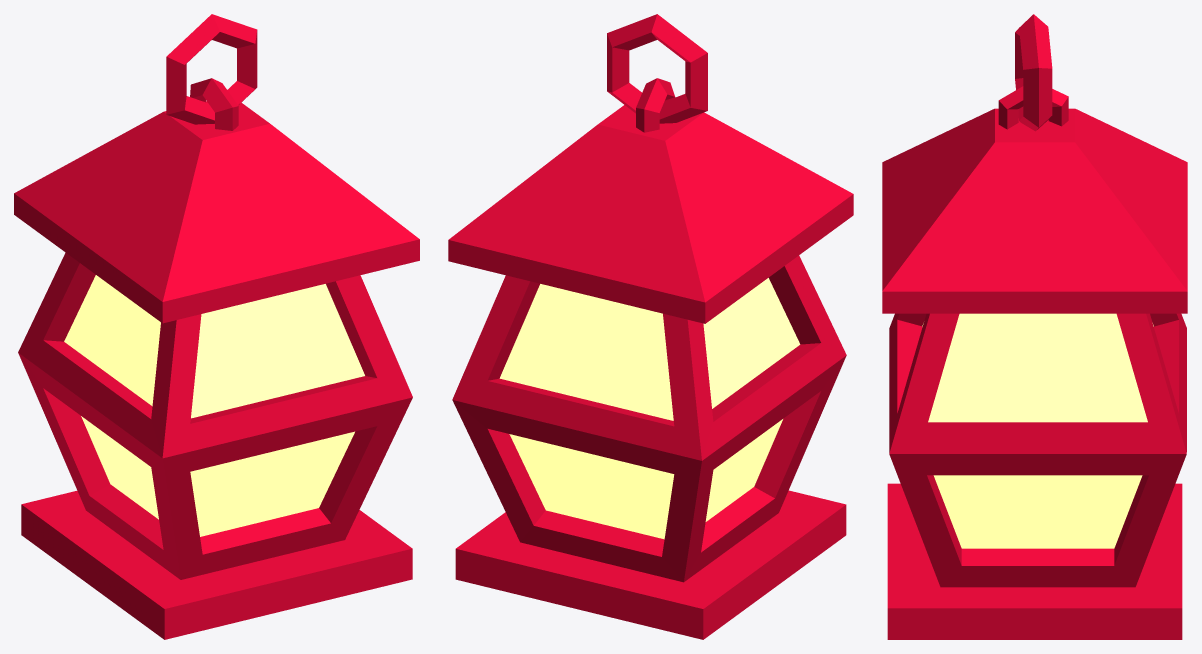
File: CleaningRoom_Lantern.fbx
3 renders of one model, left to right at view 1: azimuth 30°, elevation 25°; view 2: azimuth 150°, elevation 25°; view 3: azimuth 270°, elevation 25°, orthographic. The views are drawn at different scales.
Visible parts, largest first — view 1: CleaningRoom_Lantern; view 2: CleaningRoom_Lantern; view 3: CleaningRoom_Lantern.
Part boxes in pixels (box(x1,y1,x2,y2)): CleaningRoom_Lantern: box(14, 14, 419, 639); CleaningRoom_Lantern: box(448, 14, 853, 639); CleaningRoom_Lantern: box(882, 14, 1187, 639).
Bounding box in the file's own units: 84.18 × 170 × 84.18.
